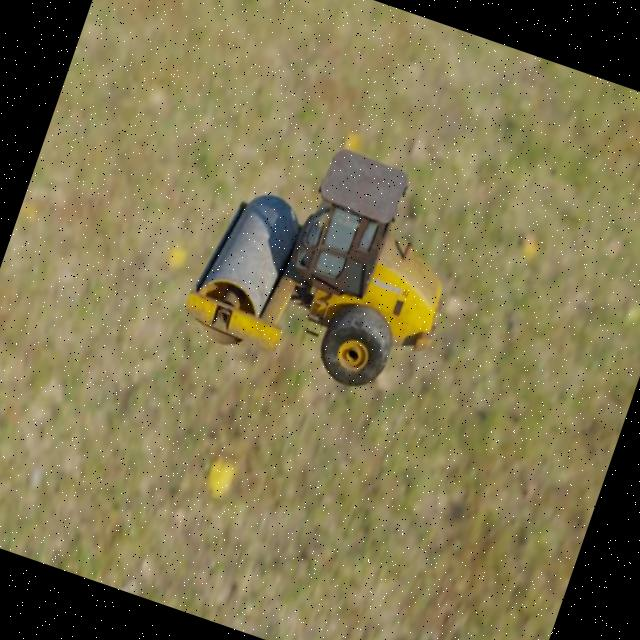Roller: (175, 114, 481, 410)
